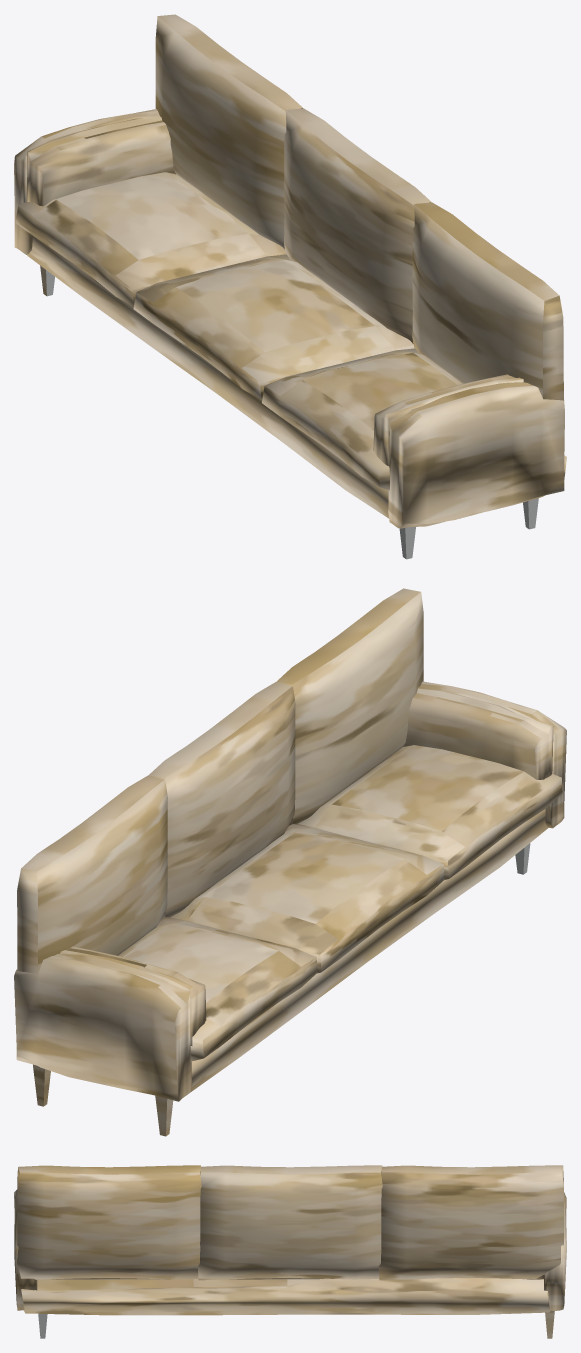
File: sofa_long.fbx
The picture shows the model from 3 angles, top to bottom: view 1: azimuth 30°, elevation 25°; view 2: azimuth 150°, elevation 25°; view 3: azimuth 270°, elevation 25°; orthographic projection. The views are drawn at different scales.
Parts seen in each view (by area): view 1: Cube.134; view 2: Cube.134; view 3: Cube.134.
Boxes of the visible parts, left/top/right/bottom form: Cube.134: left=14, top=14, right=566, bottom=559; Cube.134: left=14, top=588, right=566, bottom=1136; Cube.134: left=14, top=1165, right=566, bottom=1338.
Size of the model in its own units: 228 by 275 by 805.
